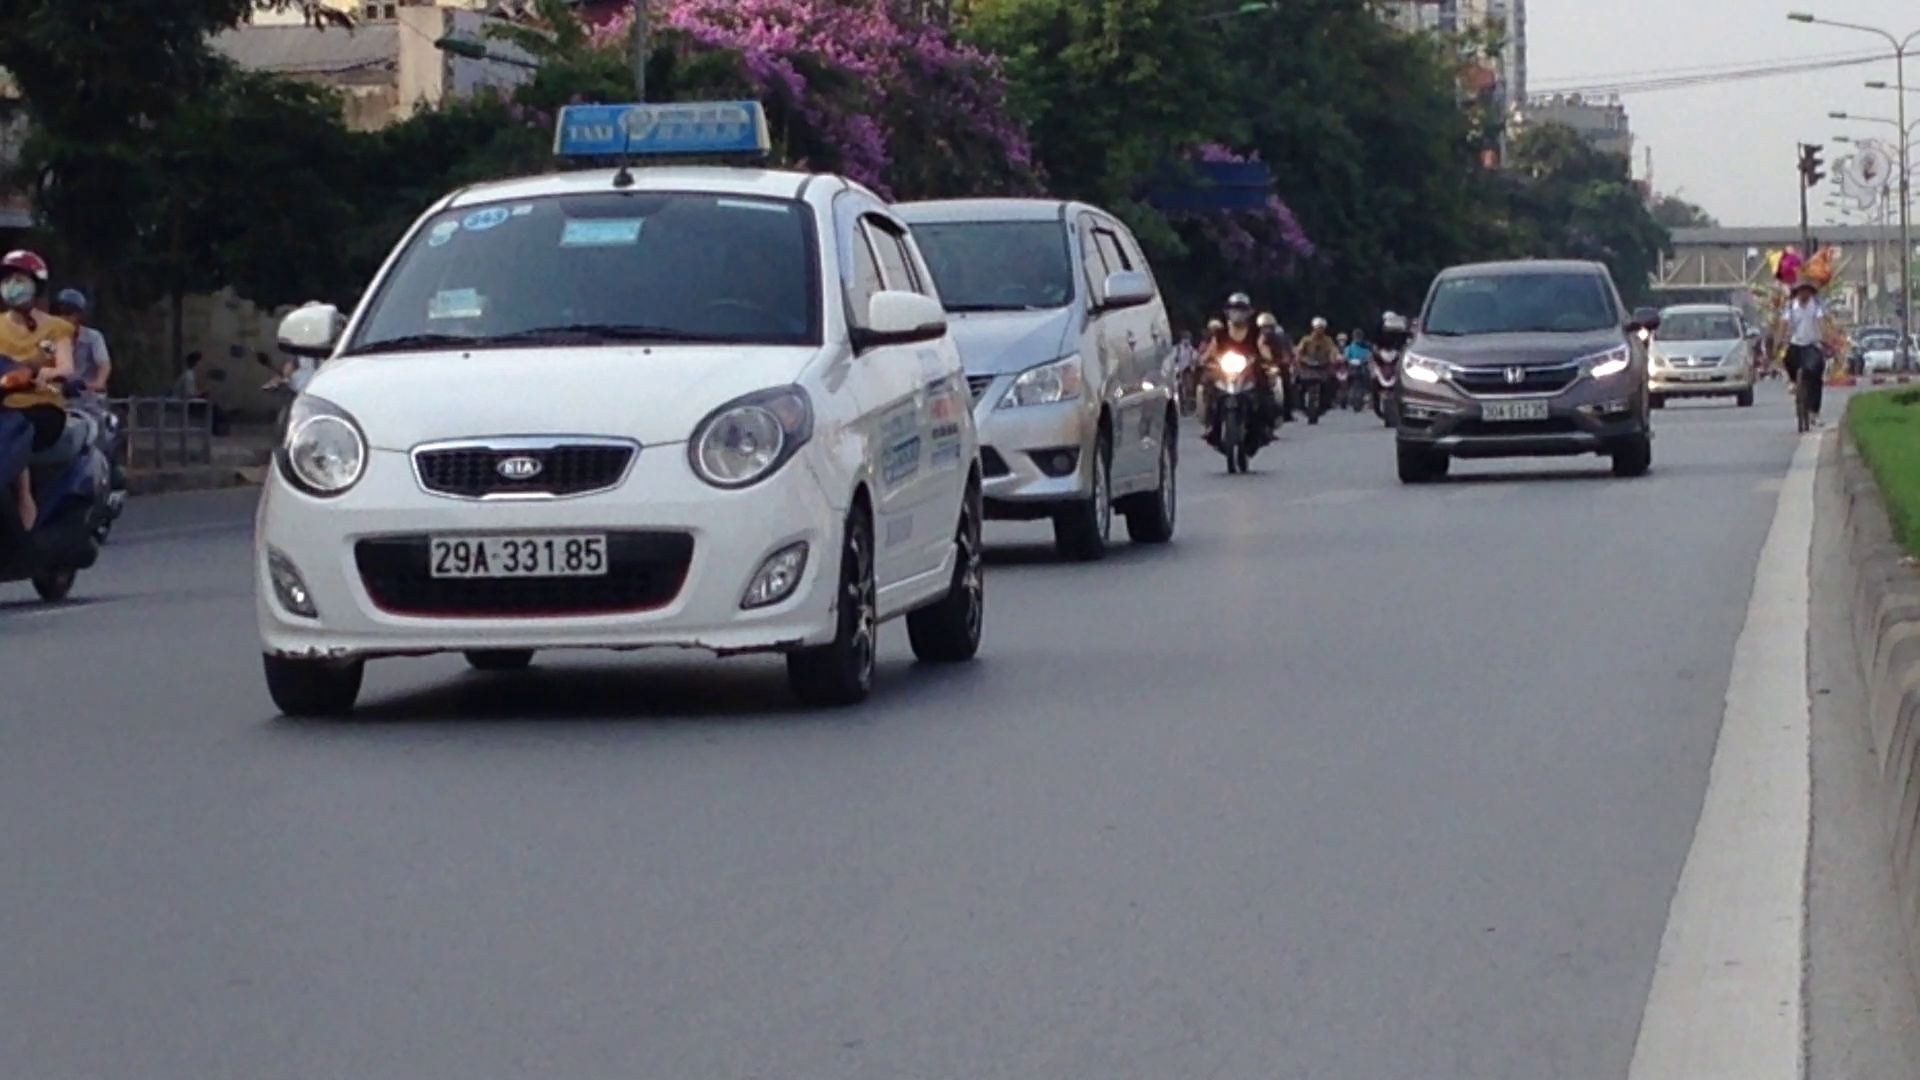vehicle-plate: (427, 534, 612, 579), (1477, 395, 1553, 424)
